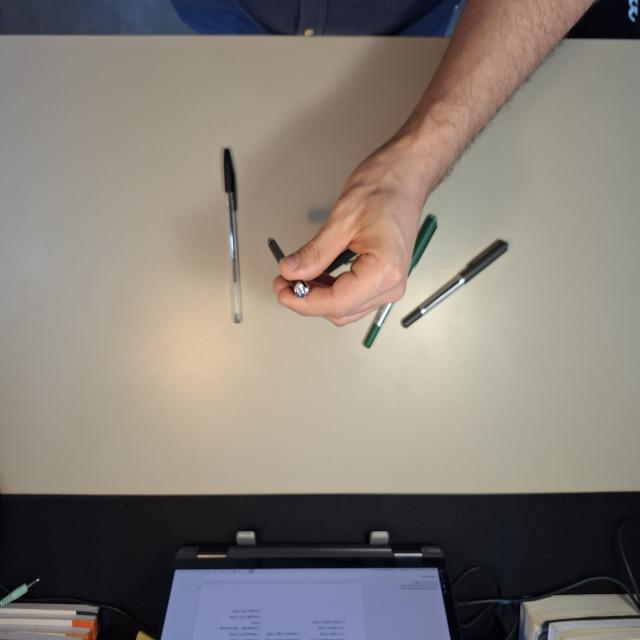glove_off: (271, 125, 436, 329)
